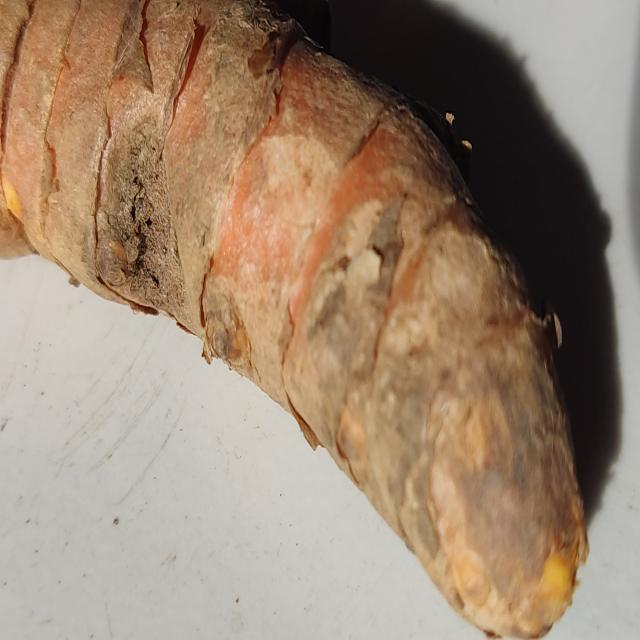ginger: (2, 0, 578, 621)
